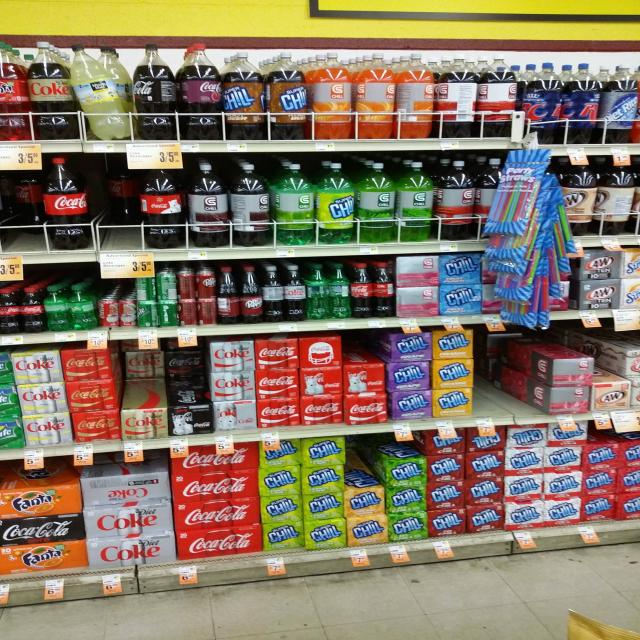unorganised: (357, 56, 517, 139), (135, 44, 224, 143), (68, 43, 133, 143), (524, 62, 598, 142), (223, 44, 269, 140), (140, 158, 186, 248), (101, 154, 141, 250), (229, 162, 270, 245), (4, 163, 45, 245), (595, 156, 636, 232), (78, 472, 172, 505), (306, 261, 350, 321), (43, 285, 96, 333), (1, 514, 83, 545), (137, 266, 195, 302), (160, 299, 218, 326), (215, 266, 241, 325), (372, 260, 396, 318), (263, 263, 286, 321)
